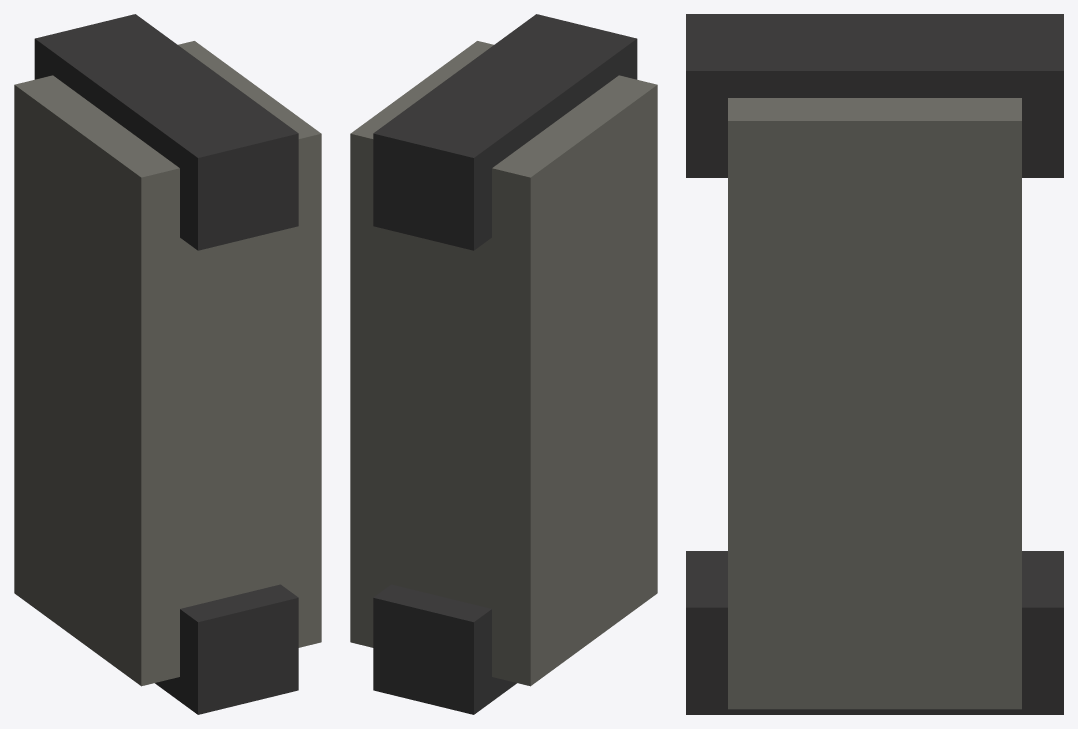
The model's file is pipeset2_hold.fbx.
3 views of the same model, side by side, from view 1: azimuth 30°, elevation 25°; view 2: azimuth 150°, elevation 25°; view 3: azimuth 270°, elevation 25° (orthographic). The views are drawn at different scales.
Parts seen in each view (by area): view 1: pipeset2_hold; view 2: pipeset2_hold; view 3: pipeset2_hold.
Boxes of the visible parts, x1,y1,x2,y2 form: pipeset2_hold: [14, 14, 321, 714]; pipeset2_hold: [350, 14, 657, 714]; pipeset2_hold: [686, 14, 1063, 714].
Size of the model in its own units: 129 by 380 by 202.
